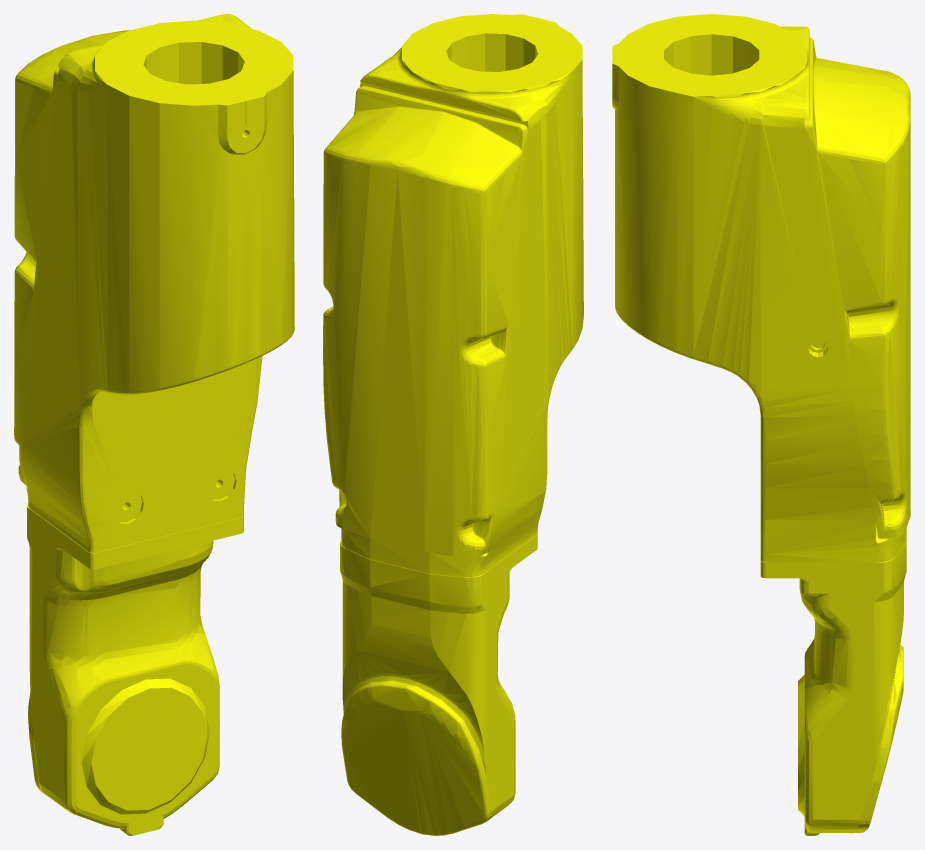
Rendered from arm4.dae.
3 renders of one model, left to right at view 1: azimuth 30°, elevation 25°; view 2: azimuth 150°, elevation 25°; view 3: azimuth 270°, elevation 25°, orthographic. The views are drawn at different scales.
Visible parts, largest first — view 1: arm4.001; view 2: arm4.001; view 3: arm4.001.
Boxes of the visible parts, bbox=[...] form: arm4.001: bbox=[14, 14, 294, 835]; arm4.001: bbox=[323, 14, 583, 835]; arm4.001: bbox=[612, 14, 910, 835].
Size of the model in its own units: 0.12 by 0.174 by 0.4978.
